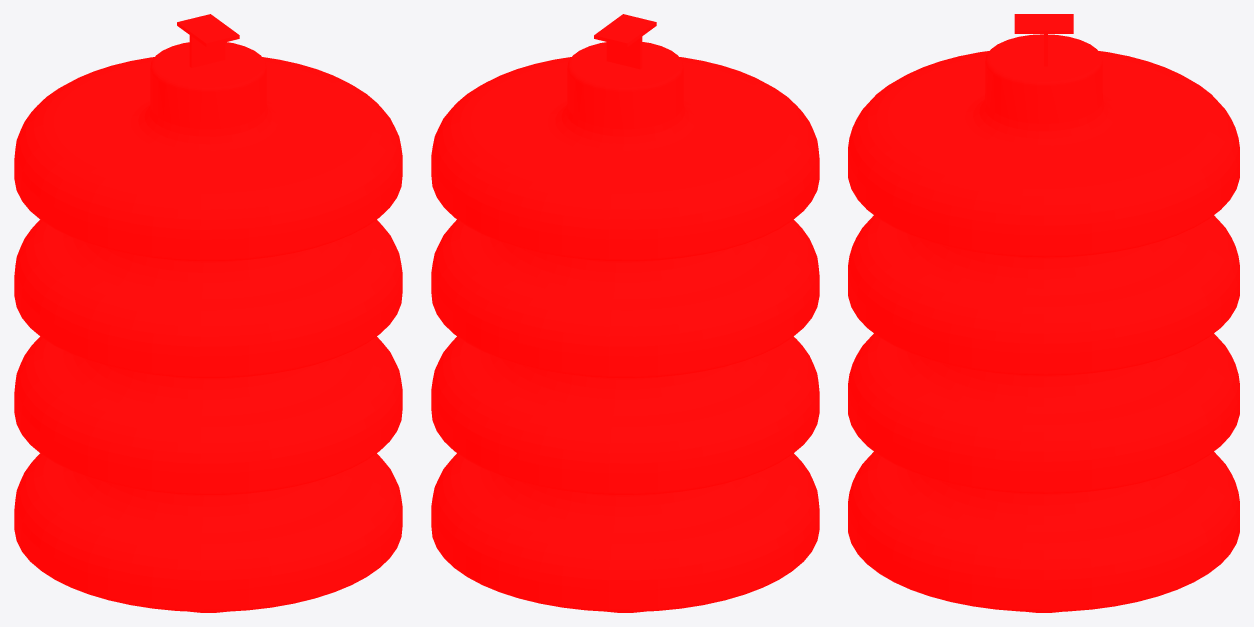
File: isol_red.glb
The picture shows the model from 3 angles, left to right: view 1: azimuth 30°, elevation 25°; view 2: azimuth 150°, elevation 25°; view 3: azimuth 270°, elevation 25°; orthographic projection.
Visible parts, largest first — view 1: Изолятор; view 2: Изолятор; view 3: Изолятор.
Boxes of the visible parts, left/top/right/bottom form: Изолятор: left=14, top=14, right=402, bottom=612; Изолятор: left=431, top=14, right=819, bottom=612; Изолятор: left=848, top=14, right=1239, bottom=612.
Size of the model in its own units: 0.1 by 0.1594 by 0.0998.
